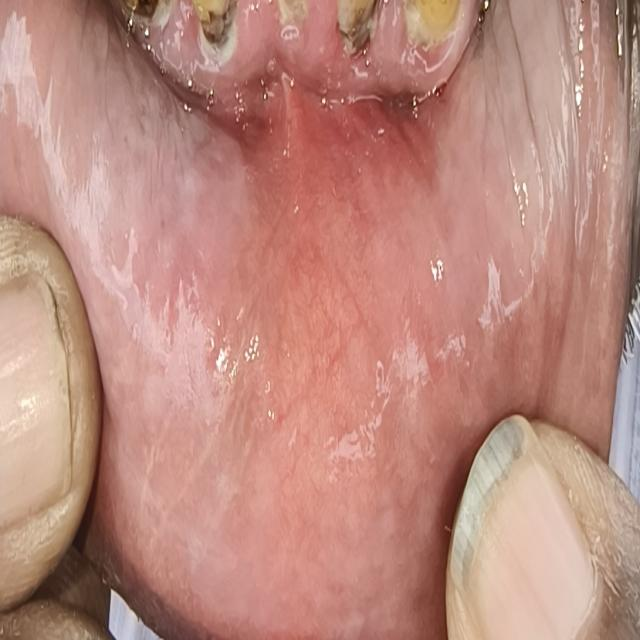leukoplakia-detection: (443, 3, 627, 274), (87, 13, 254, 195)
processing_area: (3, 1, 631, 637)
